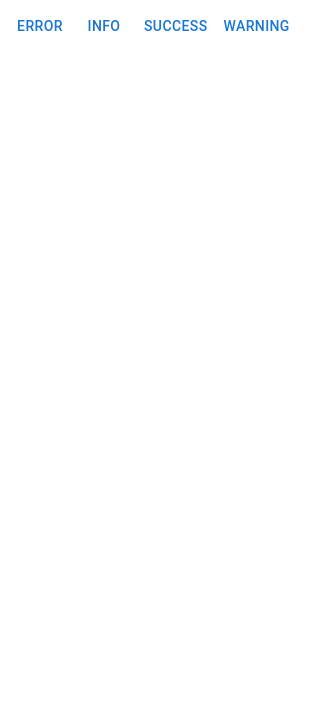
Test: Snackbar component › error
Click the button "error": click(40, 26) [8,8,72,44]
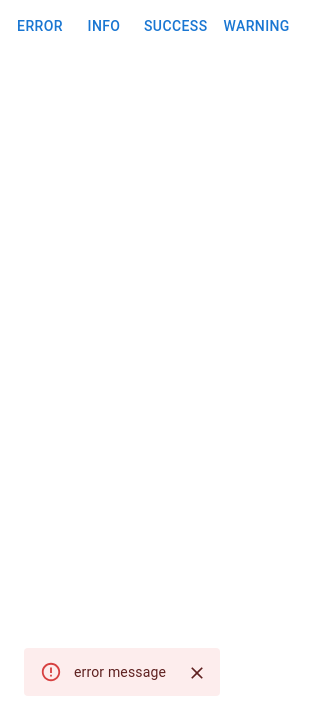
expect the text "error message" is shown: met, box [74,664,166,680]
expect the icon with test id "ErrorOutlineIcon" is shown: met, box [40,661,62,683]
